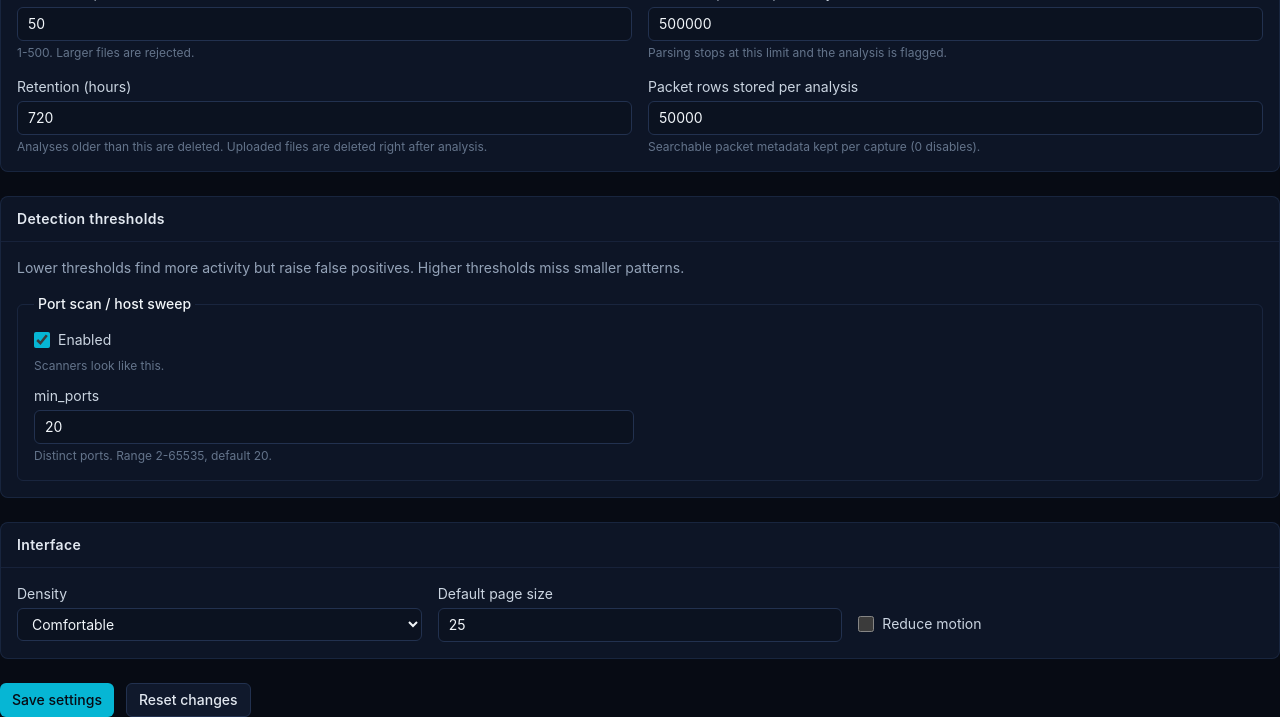
Scenario: settings: shows backend validation error
(page scrolled)
Click the button "Save settings". click: (57, 700)
box: [0,683,114,716]
(page scrolled)
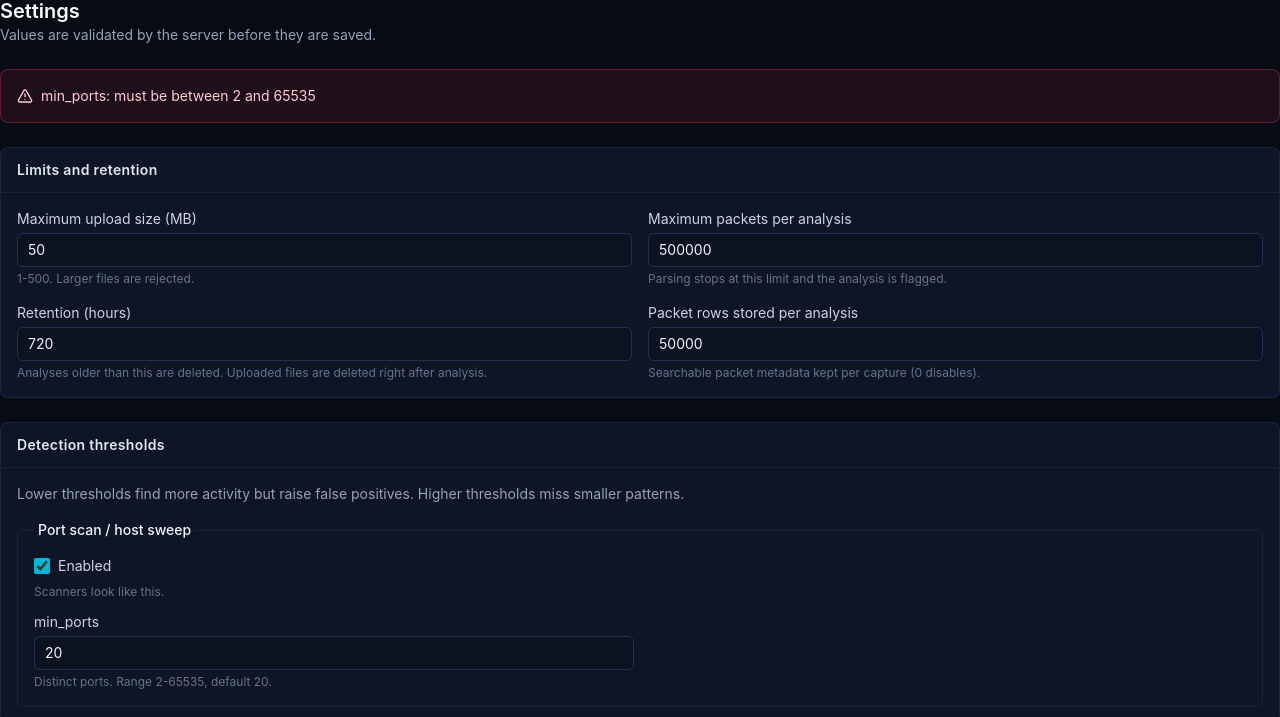
expect the message shows "must be between 2 and 65535": met, box [41,87,316,104]
